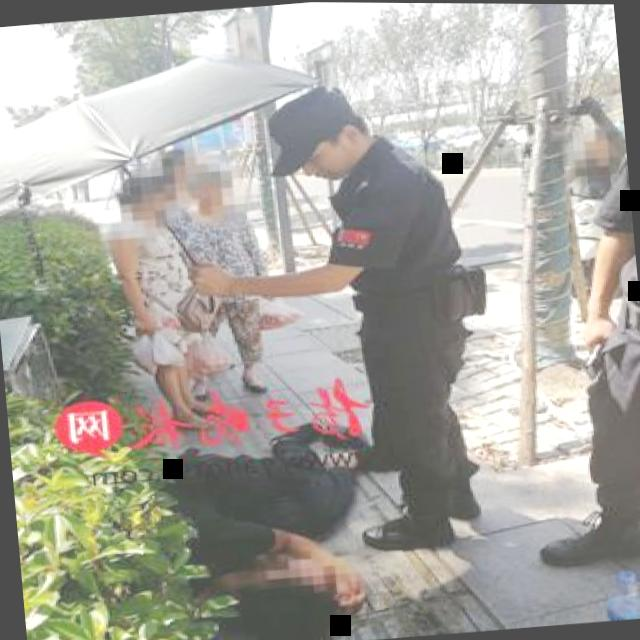Fall-Detected: (148, 386, 393, 640)
